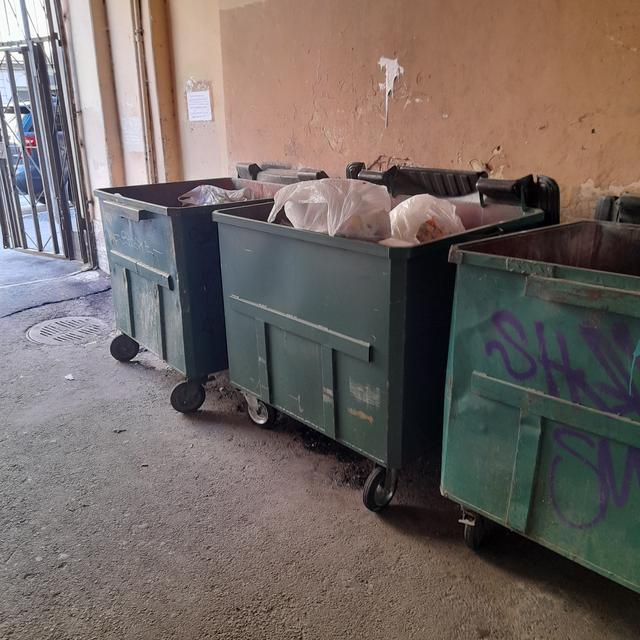Trash_Can_Empty: (442, 217, 640, 599), (96, 178, 281, 380)
Trash_Can_Full: (211, 176, 545, 468)
